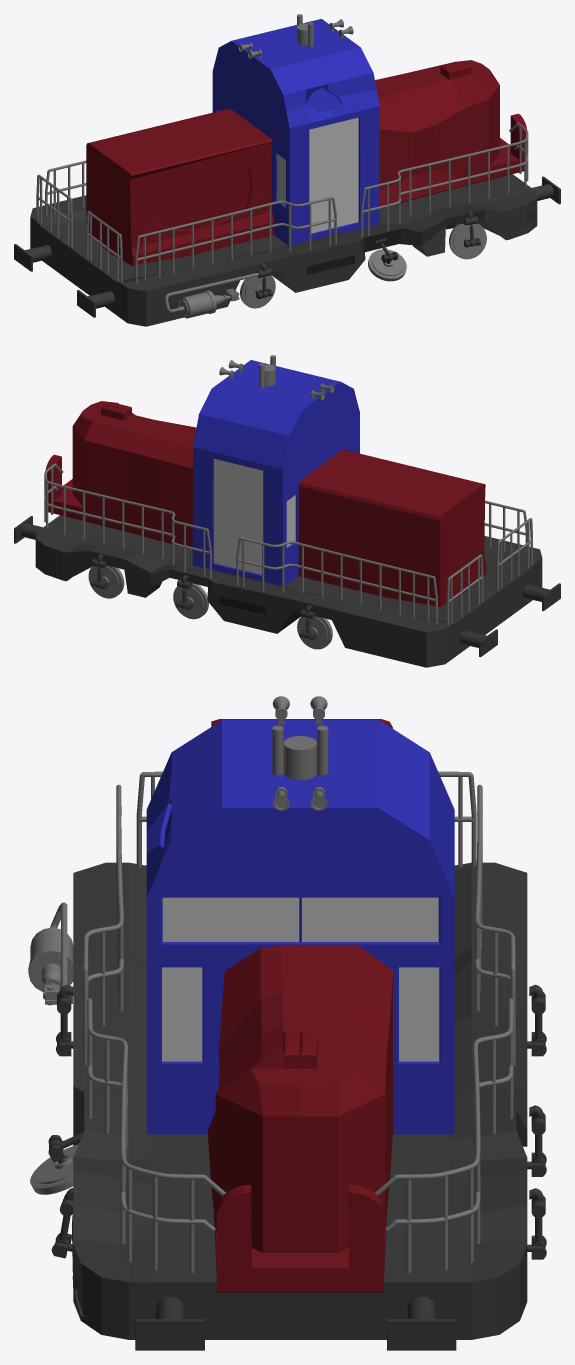
The model's file is Lok_broken_01.fbx.
The picture shows the model from 3 angles, top to bottom: view 1: azimuth 30°, elevation 25°; view 2: azimuth 150°, elevation 25°; view 3: azimuth 270°, elevation 25°; orthographic projection. The views are drawn at different scales.
Parts seen in each view (by area): view 1: Broken_Lok; view 2: Broken_Lok; view 3: Broken_Lok.
Boxes of the visible parts, <box> form: Broken_Lok: <box>14,14,560,326</box>; Broken_Lok: <box>14,355,560,667</box>; Broken_Lok: <box>28,696,546,1350</box>.
Bounding box in the file's own units: 1035 × 478 × 497.
